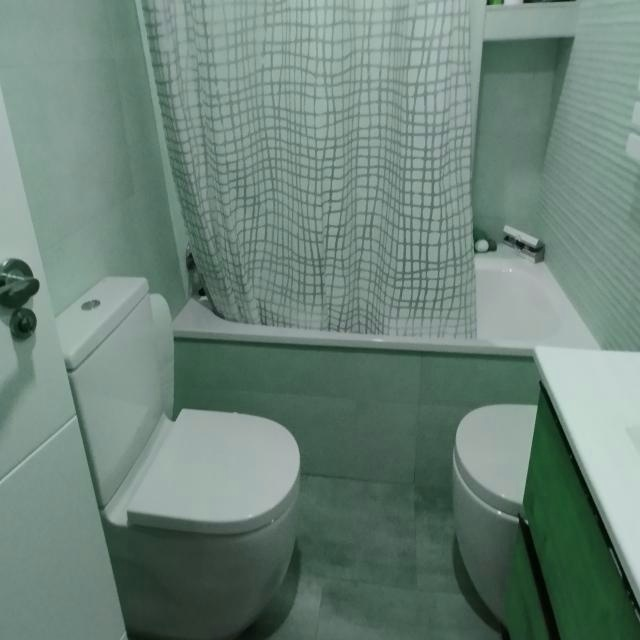bathtube: (135, 0, 601, 491)
table: (55, 277, 301, 640)
wardrobe: (511, 346, 640, 640)
